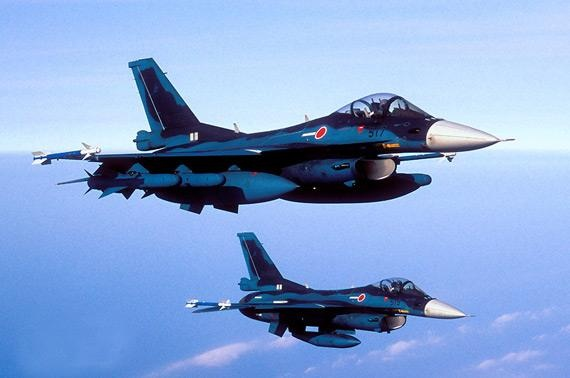airplane: (12, 56, 519, 215), (182, 228, 476, 352)
